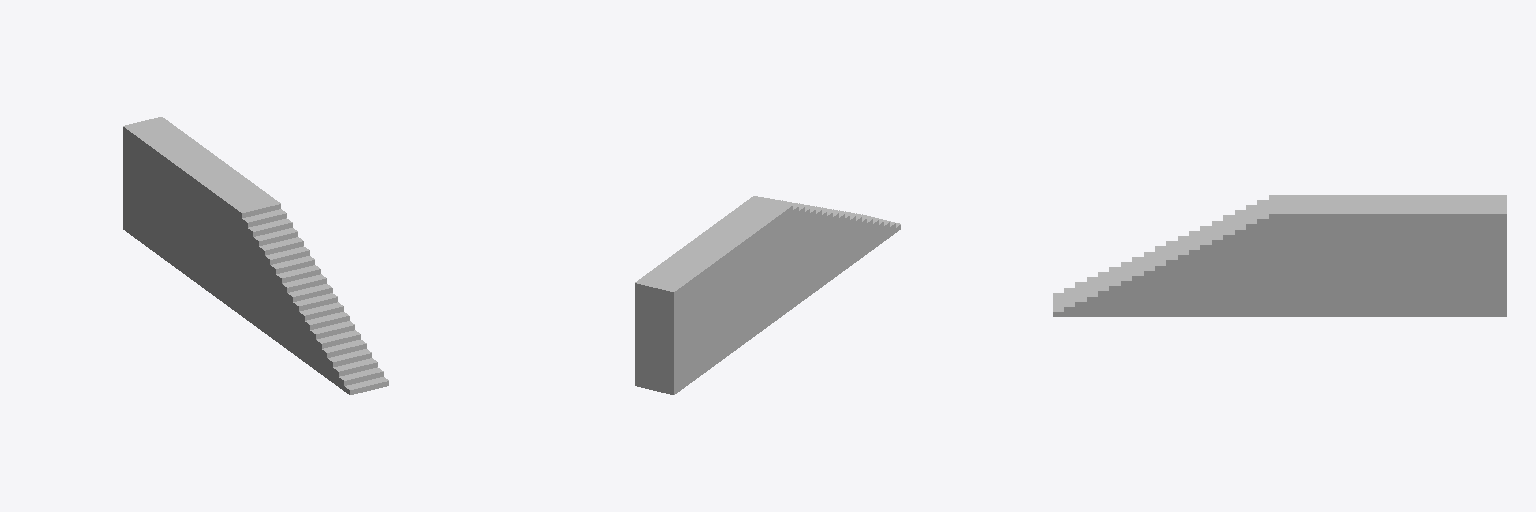
File: stair.obj
3 views of the same model, side by side, from view 1: azimuth 30°, elevation 25°; view 2: azimuth 150°, elevation 25°; view 3: azimuth 270°, elevation 25° (orthographic).
Parts seen in each view (by area): view 1: stair_Plane; view 2: stair_Plane; view 3: stair_Plane.
Boxes of the visible parts, x1,y1,x2,y2 form: stair_Plane: [123, 117, 388, 394]; stair_Plane: [635, 196, 900, 394]; stair_Plane: [1053, 195, 1506, 316].
Bounding box in the file's own units: 2 × 5 × 20.